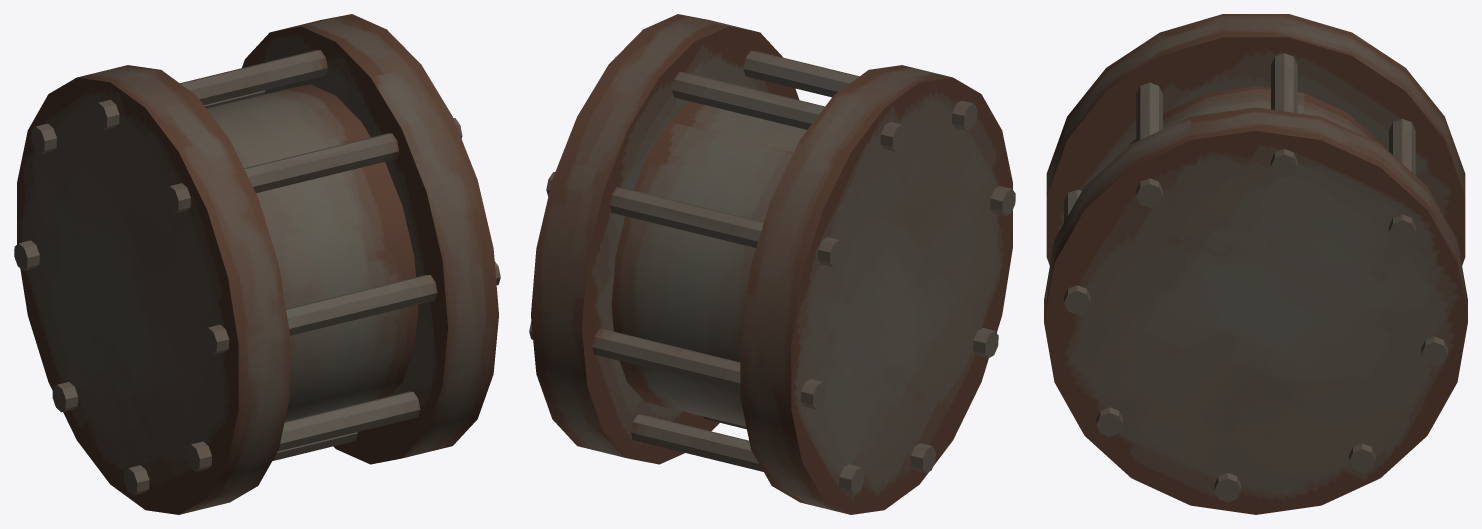
Rendered from connectorPipe.fbx.
The picture shows the model from 3 angles, left to right: view 1: azimuth 30°, elevation 25°; view 2: azimuth 150°, elevation 25°; view 3: azimuth 270°, elevation 25°; orthographic projection. The views are drawn at different scales.
Parts seen in each view (by area): view 1: pCylinder92, pCylinder53, pipe1, pCylinder90, pCylinder107, pCylinder106, pCylinder101, pCylinder105, boltleft8, boltleft3, boltleft4, boltleft7 (+4 smaller); view 2: pCylinder92, pCylinder53, pipe1, pCylinder102, pCylinder103, pCylinder101, pCylinder104, pCylinder90, boltleft5, boltleft7, boltleft8, boltleft1 (+4 smaller); view 3: pCylinder53, pCylinder92, pipe1, pCylinder101, pCylinder90, pCylinder102, boltright5, boltright3, boltright4, boltright7, boltright1, boltright2 (+2 smaller).
Part boxes in pixels (x1=…): pCylinder92: x1=17, y1=65, x2=289, y2=514; pCylinder53: x1=242, y1=14, x2=498, y2=464; pipe1: x1=206, y1=84, x2=418, y2=421; pCylinder90: x1=244, y1=133, x2=399, y2=193; pCylinder107: x1=286, y1=275, x2=437, y2=335; pCylinder106: x1=278, y1=391, x2=420, y2=451; pCylinder101: x1=180, y1=50, x2=327, y2=104; pCylinder105: x1=272, y1=432, x2=357, y2=460; boltleft8: x1=203, y1=324, x2=229, y2=354; boltleft3: x1=31, y1=123, x2=56, y2=153; boltleft4: x1=14, y1=240, x2=39, y2=270; boltleft7: x1=186, y1=441, x2=211, y2=471; pCylinder92: x1=740, y1=65, x2=1012, y2=514; pCylinder53: x1=531, y1=14, x2=799, y2=464; pipe1: x1=611, y1=101, x2=806, y2=426; pCylinder102: x1=609, y1=187, x2=763, y2=247; pCylinder103: x1=592, y1=329, x2=740, y2=389; pCylinder101: x1=672, y1=72, x2=824, y2=129; pCylinder104: x1=631, y1=414, x2=763, y2=471; pCylinder90: x1=743, y1=50, x2=859, y2=97; boltleft5: x1=839, y1=464, x2=864, y2=494; boltleft7: x1=973, y1=328, x2=998, y2=358; boltleft8: x1=990, y1=186, x2=1015, y2=216; boltleft1: x1=951, y1=100, x2=977, y2=130; pCylinder53: x1=1044, y1=107, x2=1467, y2=514; pCylinder92: x1=1046, y1=14, x2=1465, y2=265; pipe1: x1=1128, y1=86, x2=1383, y2=146; pCylinder101: x1=1271, y1=53, x2=1297, y2=113; pCylinder90: x1=1136, y1=82, x2=1162, y2=141; pCylinder102: x1=1389, y1=118, x2=1415, y2=175; boltright5: x1=1349, y1=443, x2=1375, y2=473; boltright3: x1=1389, y1=214, x2=1415, y2=244; boltright4: x1=1421, y1=336, x2=1447, y2=366; boltright7: x1=1096, y1=407, x2=1122, y2=436; boltright1: x1=1136, y1=178, x2=1162, y2=207; boltright2: x1=1271, y1=149, x2=1297, y2=178.
Bounding box in the file's own units: 0.6614 × 0.908 × 0.908.
